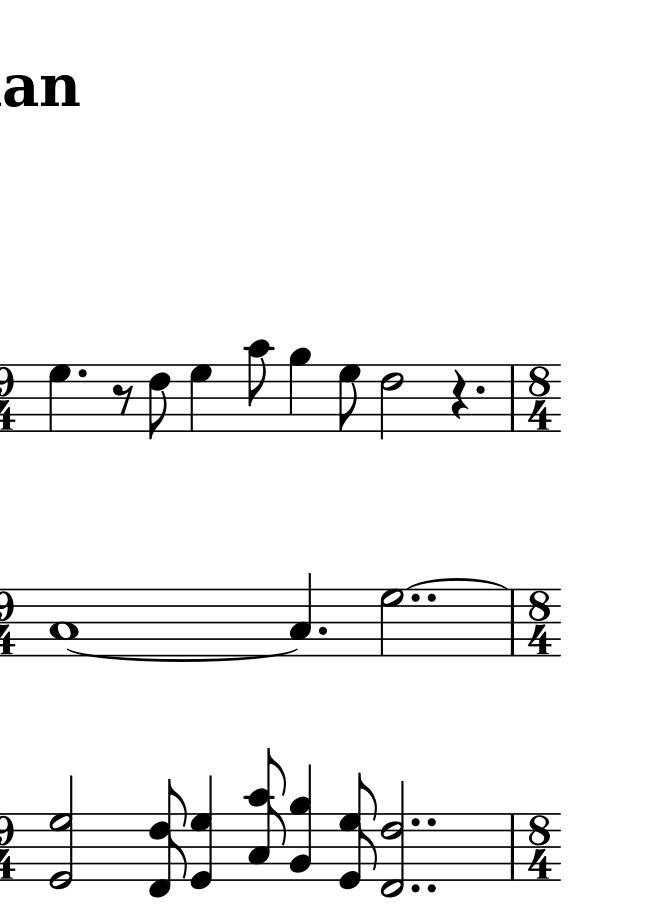1_3: (50, 586, 78, 659)
2_-1_6: (381, 780, 406, 898)
2_0_7: (47, 775, 75, 891)
2_6: (378, 363, 404, 439)
2_7: (378, 587, 404, 657)
4: (525, 398, 555, 431), (526, 846, 555, 880), (525, 623, 554, 656)
4_0_7: (191, 775, 213, 890)
4_2_7: (289, 764, 313, 883)
4_3: (288, 572, 313, 657)
4_7: (187, 363, 213, 433), (47, 363, 71, 434)
4_9: (287, 345, 311, 433)
8: (527, 362, 552, 396), (527, 588, 552, 621)
8_-1_6: (149, 779, 189, 898)
8_0_7: (338, 770, 379, 889)
8_10: (244, 338, 273, 433)
8_3_10: (245, 747, 288, 882)
8_6: (145, 363, 172, 441)
8_7: (336, 363, 361, 433)
Double_dot: (410, 880, 436, 895), (409, 815, 436, 829), (411, 591, 438, 603)
Rests4: (449, 369, 467, 424)
Rests8: (111, 383, 134, 418)
Single_barline: (506, 814, 519, 881), (506, 366, 519, 430)
Slur: (65, 647, 297, 662), (405, 577, 511, 591)
TimeSig: (525, 364, 554, 432), (525, 588, 554, 656), (526, 814, 554, 881)
dot: (474, 383, 488, 398), (75, 366, 88, 381), (316, 625, 329, 637)
